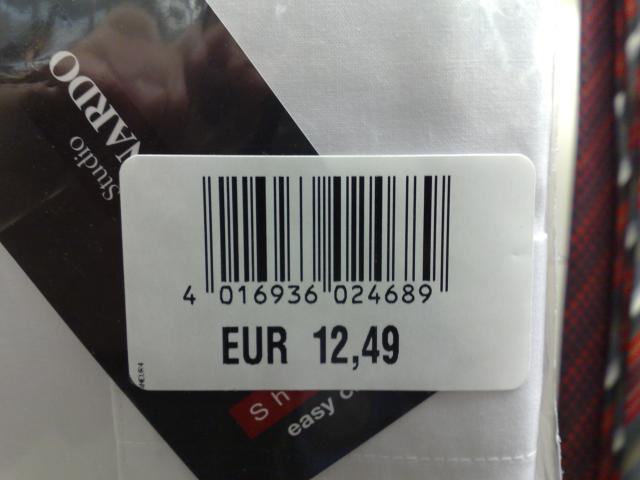Barcode: (163, 160, 483, 320)
